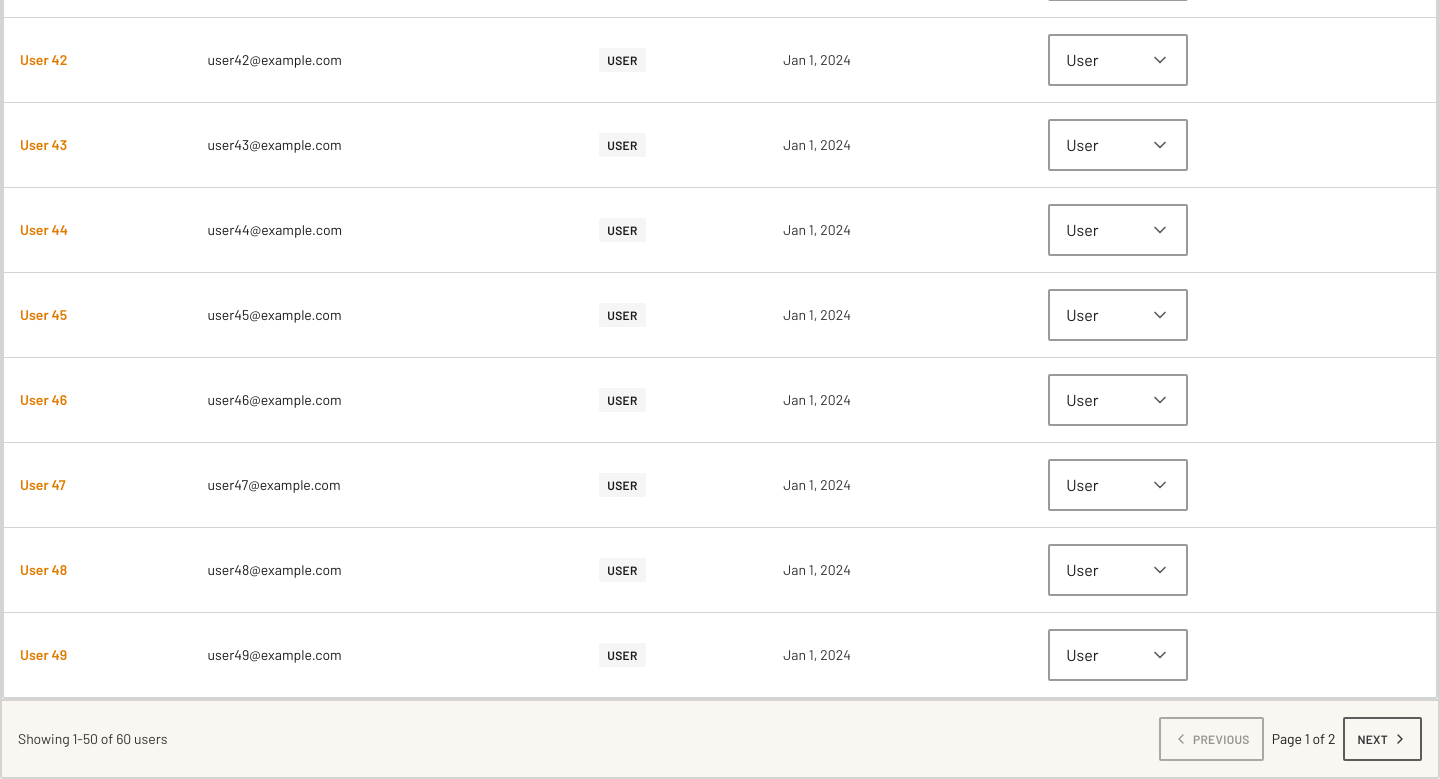
Test case: UsersTable › handles pagination correctly
The width and height of the screenshot is (1440, 779).
(page scrolled)
Expected: the text "Showing 1-50 of 60 users" is shown, [18,728,168,748]
Expected: the text "Page 1 of 2" is shown, [1272,728,1335,748]
Click the button "Next" at (1383, 738), box [1343,716,1422,760]
(page scrolled)
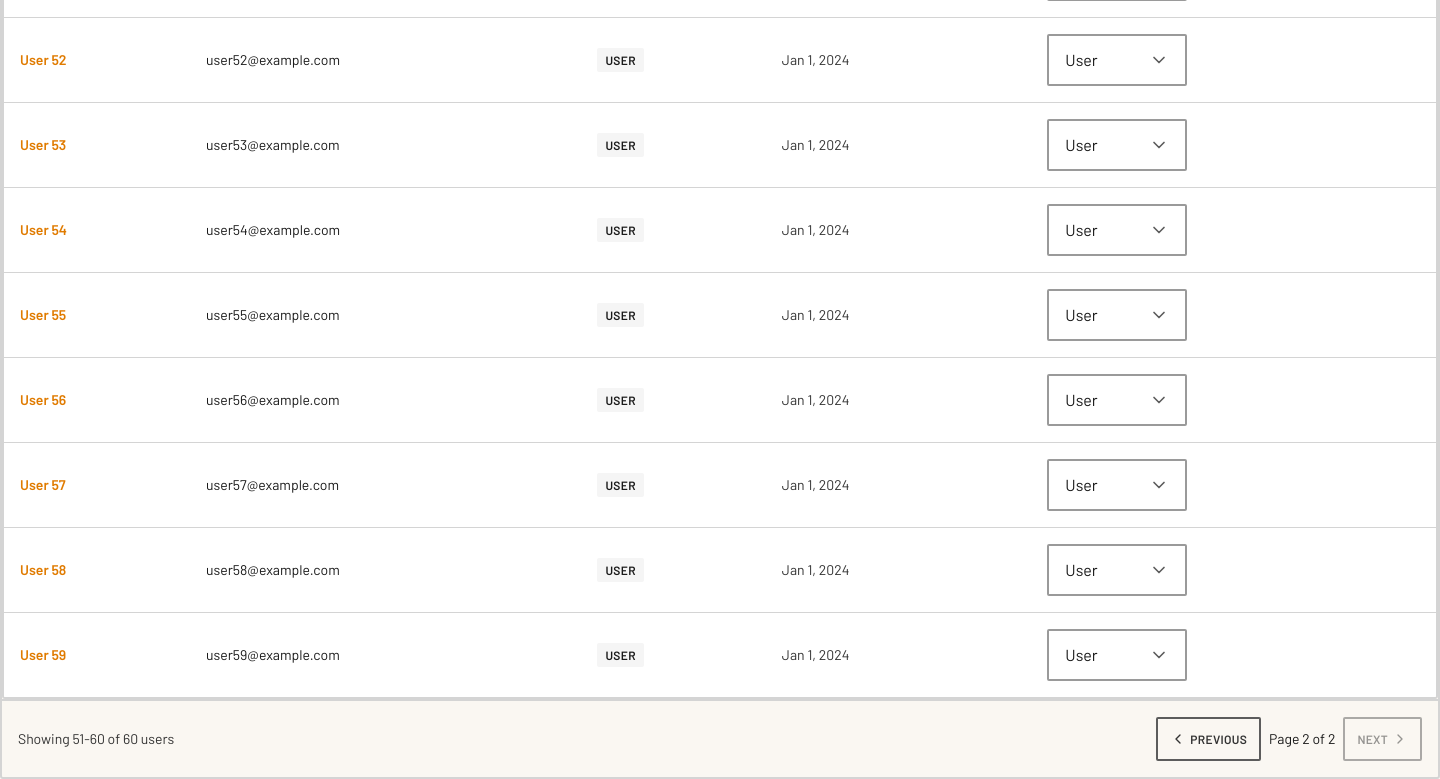
Now the text "Showing 51-60 of 60 users" is shown, box [18,728,174,748]
Now the text "Page 2 of 2" is shown, box [1269,728,1335,748]
Click the button "Previous" at (1209, 738), box [1156,716,1261,760]
(page scrolled)
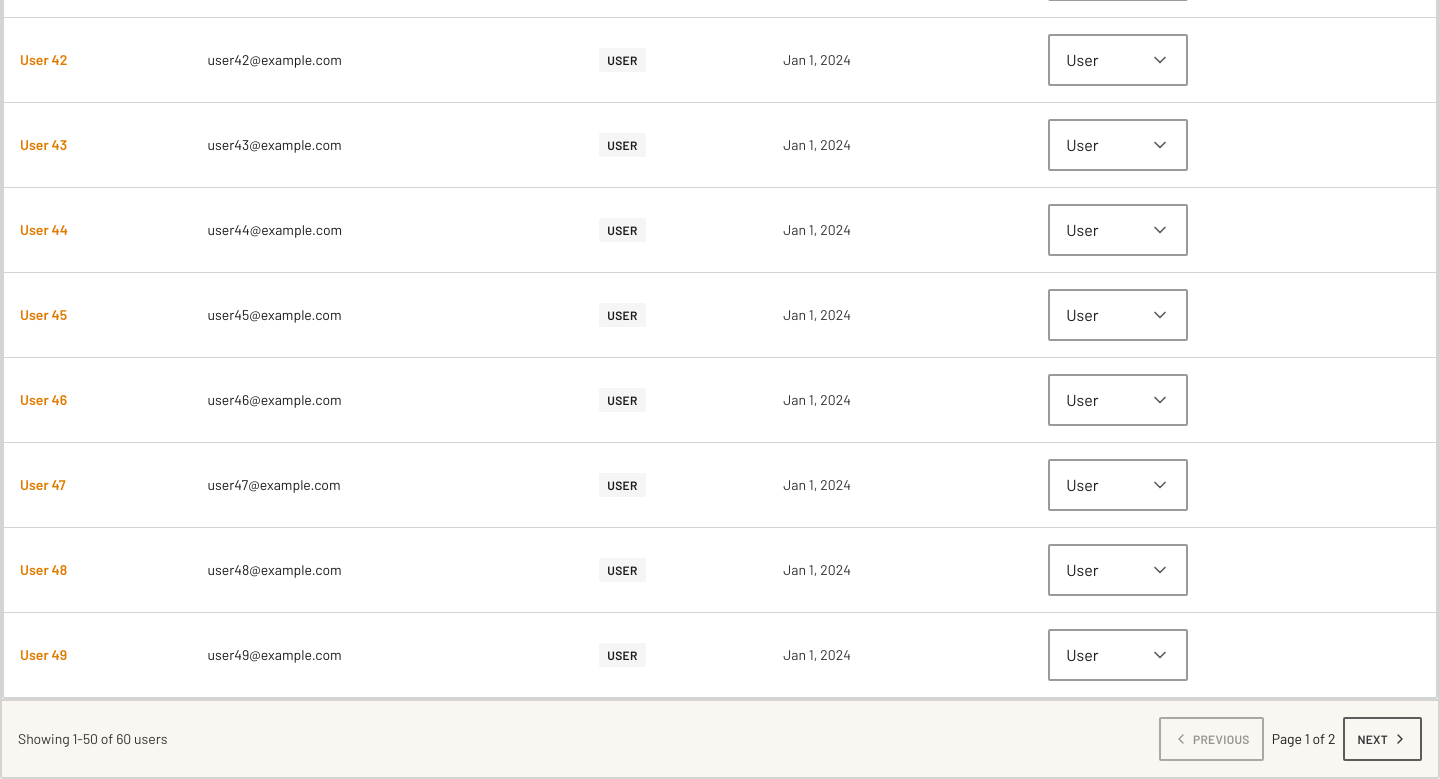
Now the text "Showing 1-50 of 60 users" is shown, box [18,728,168,748]
